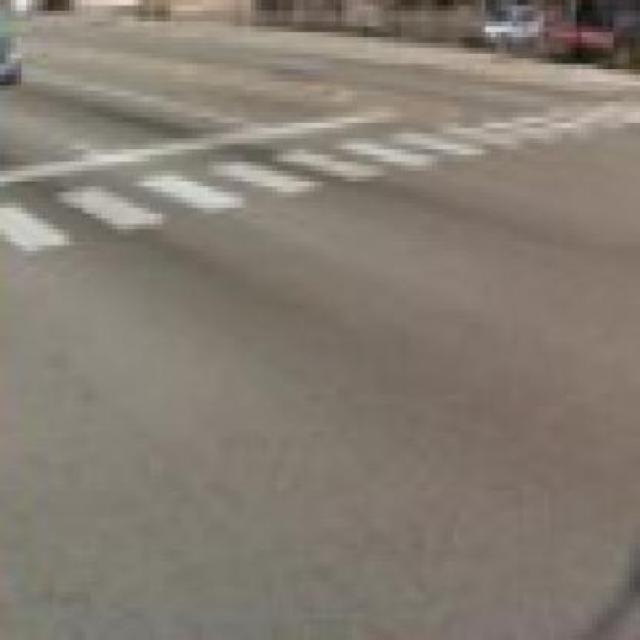crosswalk: (0, 100, 636, 253)
